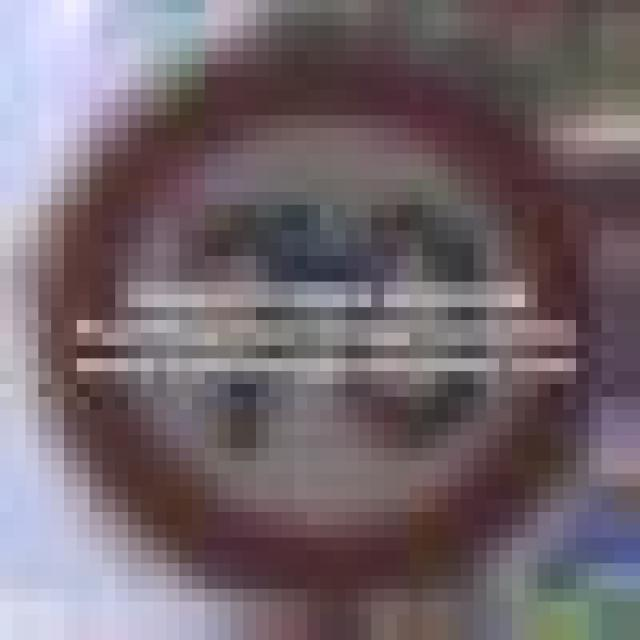SPEED_LIMIT_70: (38, 39, 576, 564)
